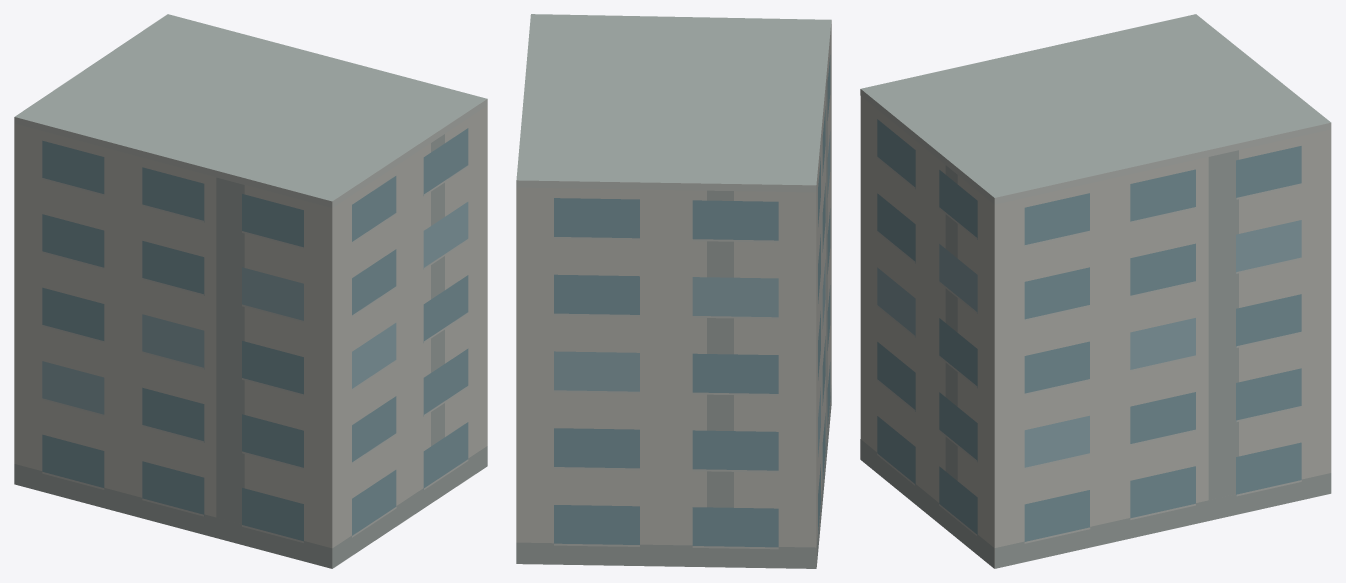
The model's file is survey-upis-33009127.glb.
The picture shows the model from 3 angles, left to right: view 1: azimuth 30°, elevation 25°; view 2: azimuth 150°, elevation 25°; view 3: azimuth 270°, elevation 25°; orthographic projection. The views are drawn at different scales.
Visible parts, largest first — view 1: survey-upis-33009127.tmp; view 2: survey-upis-33009127.tmp; view 3: survey-upis-33009127.tmp.
Boxes of the visible parts, x1=… form: survey-upis-33009127.tmp: x1=14, y1=14, x2=487, y2=568; survey-upis-33009127.tmp: x1=516, y1=14, x2=831, y2=568; survey-upis-33009127.tmp: x1=860, y1=14, x2=1331, y2=568.
Bounding box in the file's own units: 13.94 × 13.1 × 15.08.
